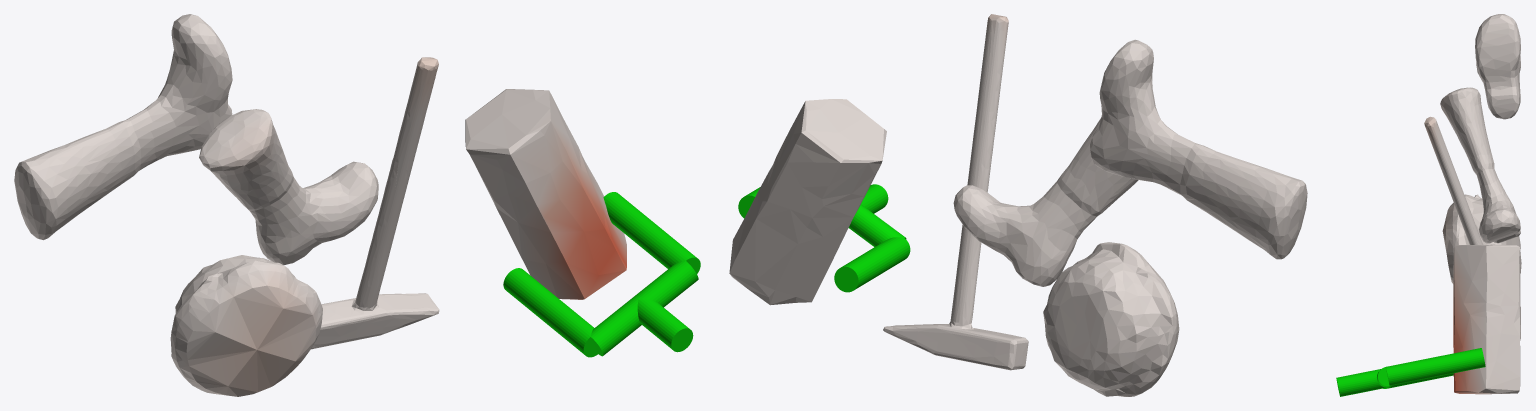
File: round_000_trial_000.obj
The picture shows the model from 3 angles, left to right: view 1: azimuth 30°, elevation 25°; view 2: azimuth 150°, elevation 25°; view 3: azimuth 270°, elevation 25°; orthographic projection. The views are drawn at different scales.
Visible parts, largest first — view 1: geometry_0, geometry_1; view 2: geometry_0, geometry_1; view 3: geometry_0, geometry_1.
Boxes of the visible parts, left/top/right/bottom form: geometry_0: left=14, top=14, right=626, bottom=396; geometry_1: left=503, top=192, right=700, bottom=357; geometry_0: left=729, top=14, right=1307, bottom=396; geometry_1: left=738, top=184, right=910, bottom=292; geometry_0: left=1424, top=14, right=1521, bottom=394; geometry_1: left=1336, top=348, right=1485, bottom=396.
Size of the model in its own units: 0.2556 by 0.1537 by 0.0946.
